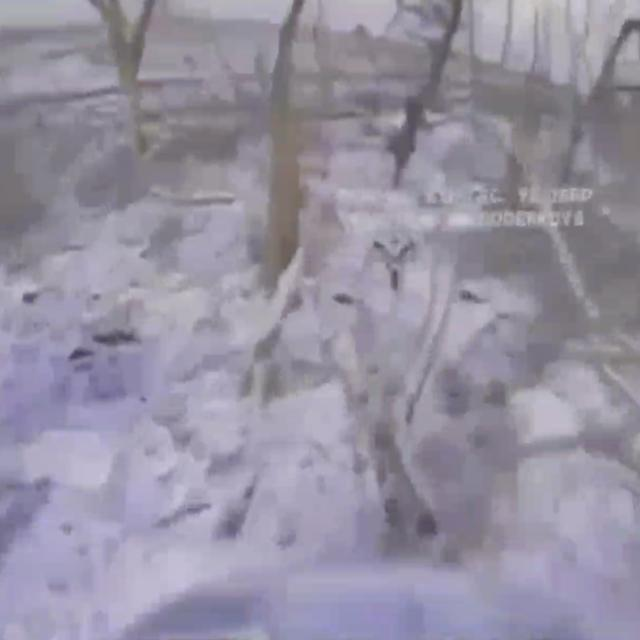infantry: (391, 119, 418, 191)
